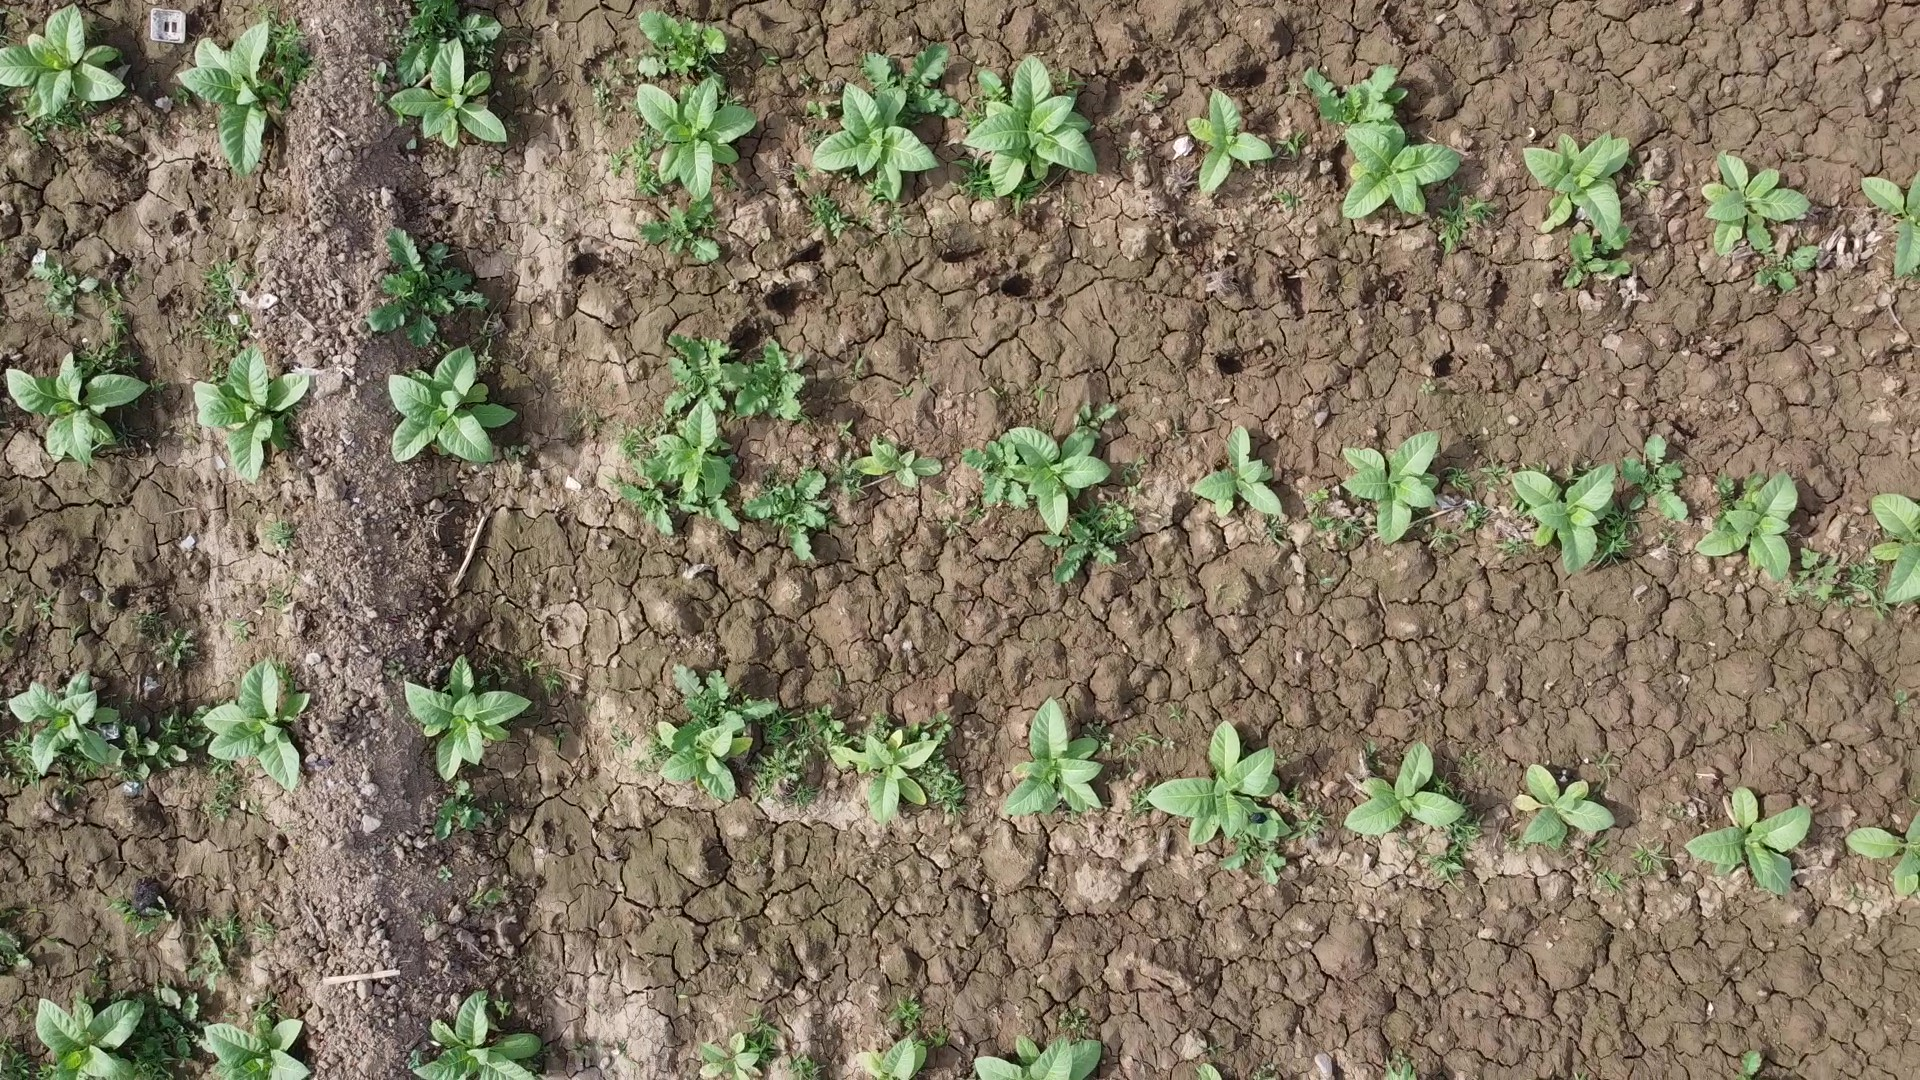weed: (979, 69, 1139, 181), (0, 997, 179, 1080), (657, 101, 814, 192), (1186, 93, 1322, 194), (1339, 439, 1468, 542), (211, 652, 327, 764), (1343, 740, 1464, 842), (418, 661, 534, 764), (1005, 700, 1102, 822), (211, 366, 331, 463), (411, 992, 542, 1079), (1177, 725, 1281, 831), (1535, 118, 1653, 207), (839, 725, 951, 816), (430, 67, 545, 151), (1707, 480, 1815, 568), (977, 413, 1091, 495), (26, 349, 127, 441), (1524, 758, 1621, 850), (411, 359, 502, 456), (842, 77, 932, 174), (1511, 463, 1614, 542), (202, 1012, 319, 1079), (1855, 155, 1920, 267), (1716, 807, 1804, 887), (1847, 794, 1920, 885), (1860, 480, 1920, 588), (37, 28, 116, 110), (1718, 164, 1804, 239), (986, 1010, 1091, 1070), (1214, 437, 1287, 521), (207, 47, 282, 125), (674, 721, 753, 792), (848, 1016, 936, 1079), (1358, 142, 1438, 198), (26, 682, 90, 745), (678, 1031, 762, 1074)
